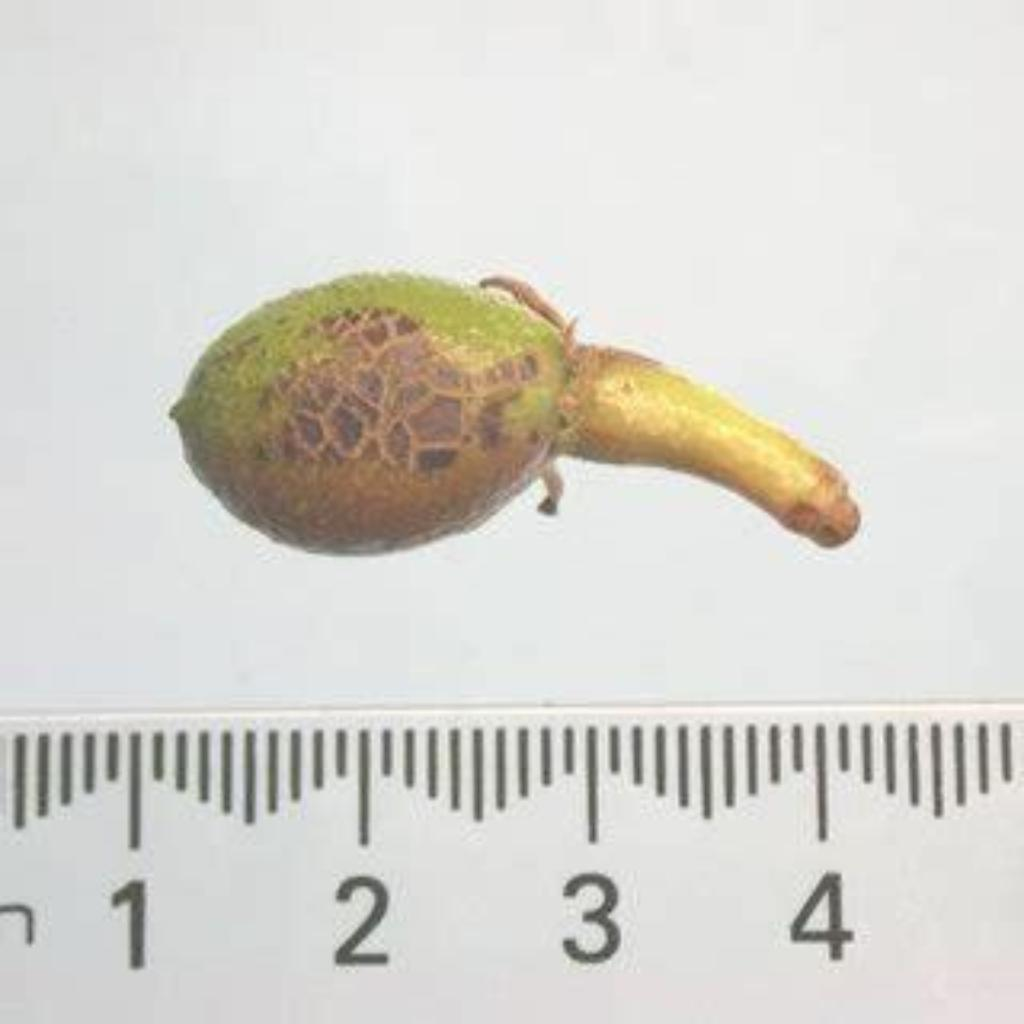cercospora: (200, 302, 546, 510)
